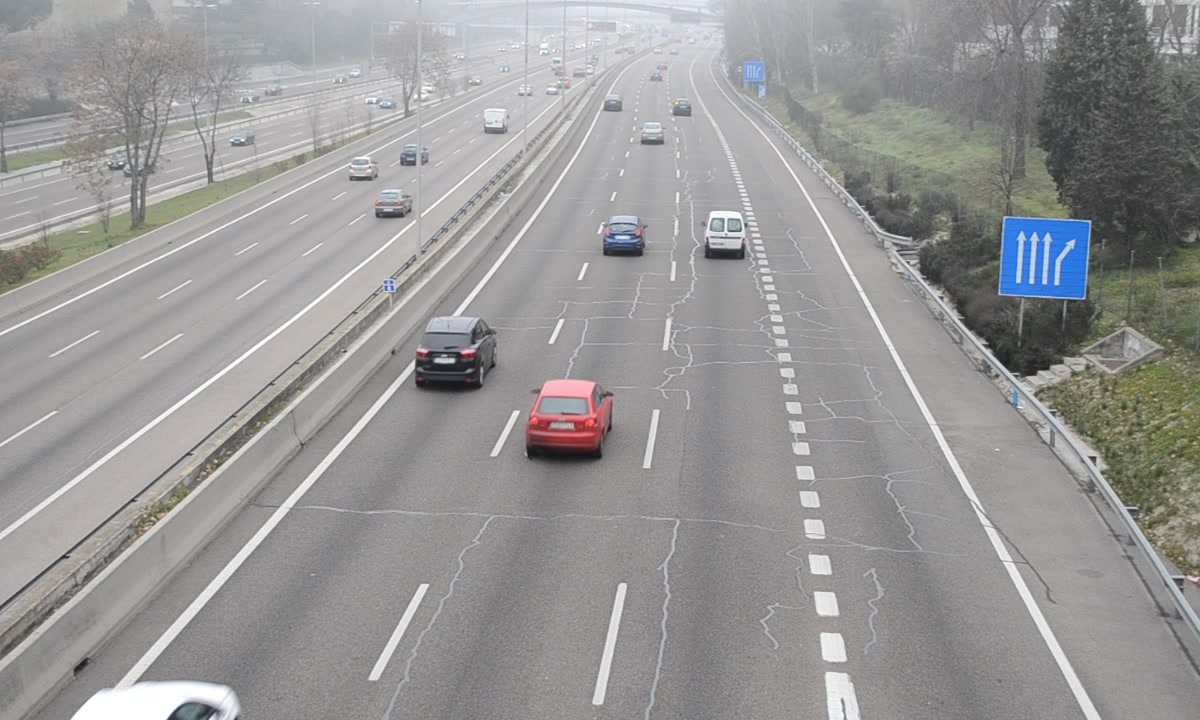car: (526, 380, 611, 455), (415, 316, 496, 386), (602, 216, 644, 254), (639, 121, 666, 145)
van: (704, 211, 745, 256)
